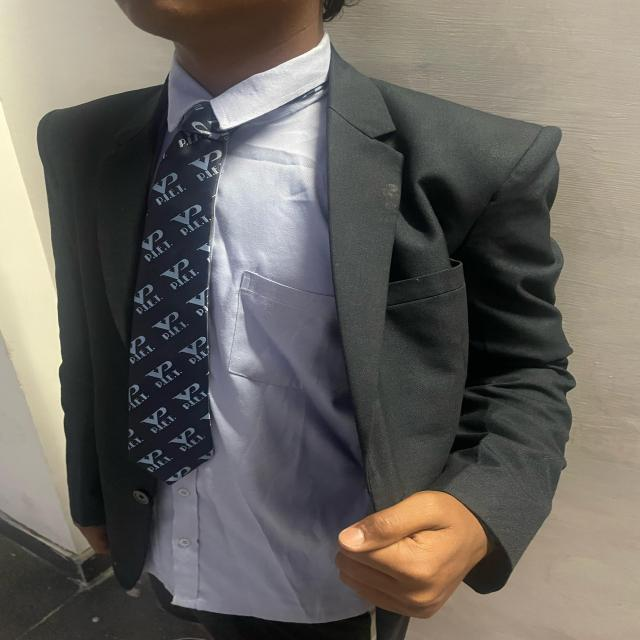Tie: (127, 130, 224, 483)
uniform: (35, 33, 575, 638)
